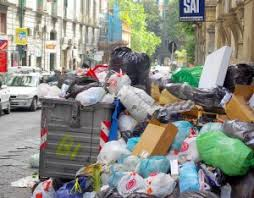garbage: (69, 48, 254, 197), (32, 163, 252, 198)
